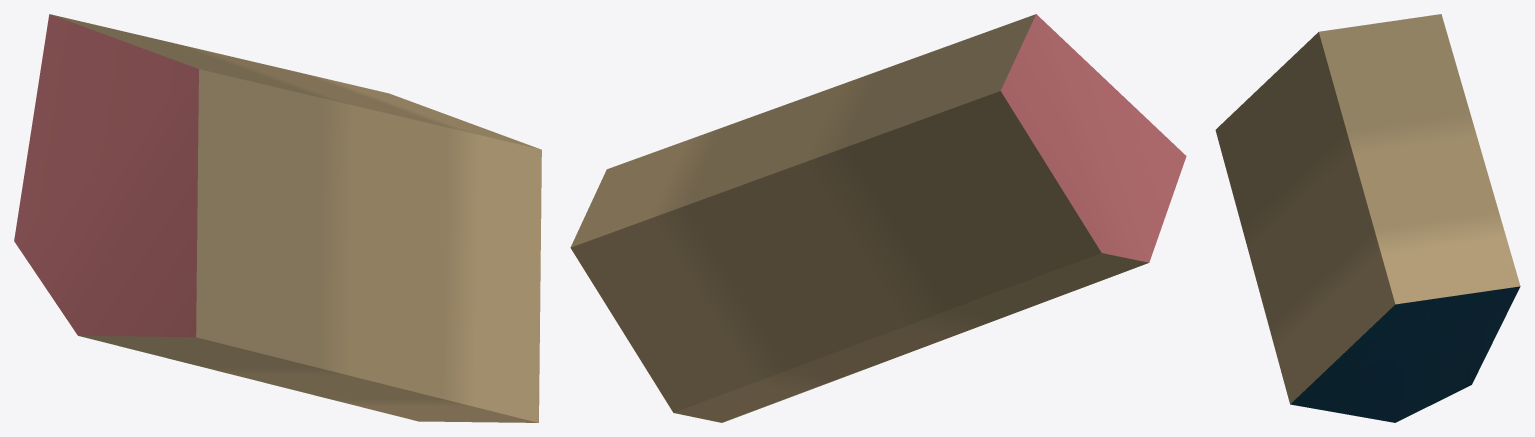
The model's file is 05e2_Grenada.glb.
3 views of the same model, side by side, from view 1: azimuth 30°, elevation 25°; view 2: azimuth 150°, elevation 25°; view 3: azimuth 270°, elevation 25° (orthographic). The views are drawn at different scales.
Parts seen in each view (by area): view 1: part_0; view 2: part_0; view 3: part_0.
Boxes of the visible parts, <box> form: part_0: <box>14,14,541,422</box>; part_0: <box>570,14,1186,422</box>; part_0: <box>1215,14,1520,422</box>.
Size of the model in its own units: 0.2275 by 0.1903 by 0.1739.
Materials: 1 (1 with a texture image).
